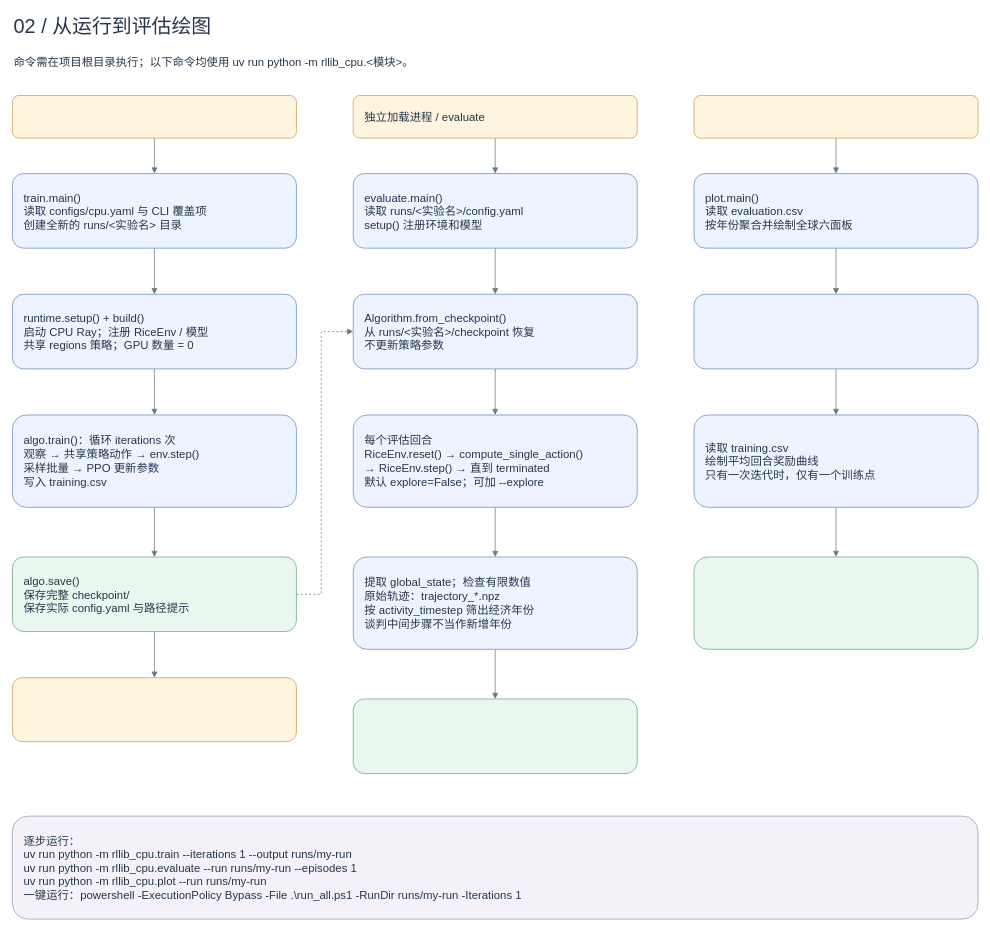
This 990x932 diagram has some shape labels left out. Here are the shapes that lost their labels. From the top down, the box of each, then its label:
(12, 95, 296, 138): 训练进程 / train
(693, 95, 978, 138): 结果分析进程 / plot
(693, 294, 978, 369): 读取 regions.csv 按地区 / 年份聚合 绘制各地区减排曲线
(693, 556, 978, 649): 三张 PNG analysis.png regional_mitigation.png training.png
(12, 677, 296, 742): finally algo.stop()；ray.shutdown()
(353, 698, 637, 774): 导出评估结果；关闭算法和 Ray evaluation.csv：全球年度结果 regions.csv；summary.json
